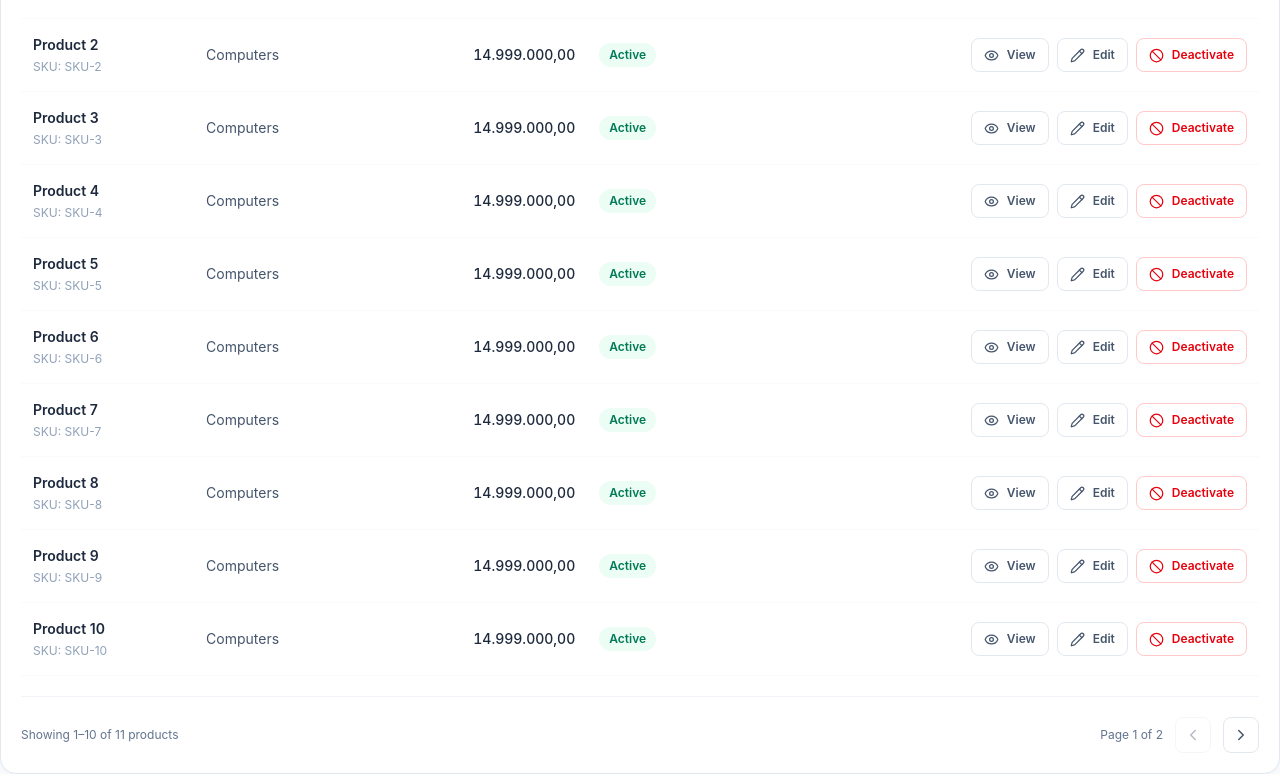
Test case: ProductsPage › supports pagination
(page scrolled)
Expected: the text "Page 1 of 2" is shown, [1100, 727, 1163, 743]
Click the button named "Next page" at coordinates (1241, 735), box [1223, 717, 1259, 753]
(page scrolled)
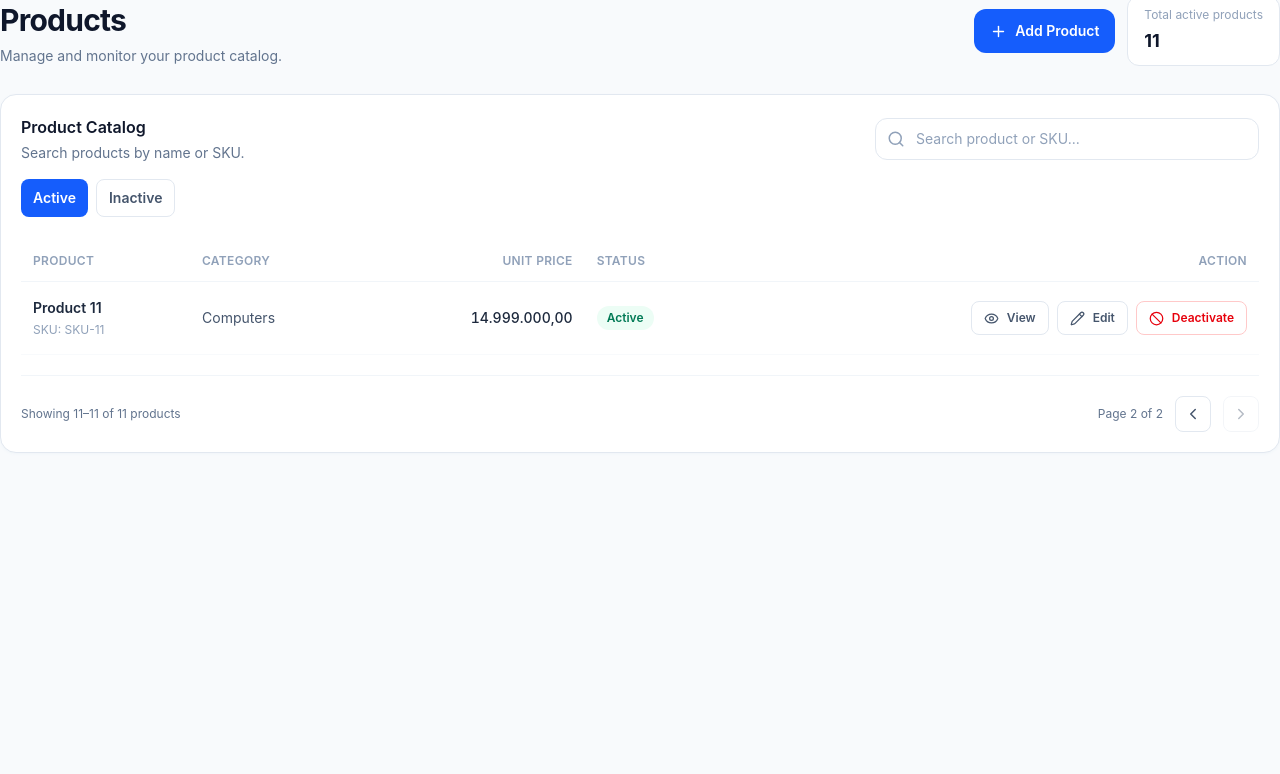
Expected: the text "Product 11" is shown, [33, 299, 102, 316]
Expected: the text "Page 2 of 2" is shown, [1098, 406, 1163, 422]
